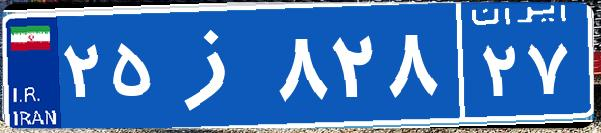2: (330, 28, 385, 110), (57, 26, 110, 107), (475, 38, 525, 113)
5: (110, 28, 158, 105)
7: (525, 38, 570, 115)
8: (385, 28, 445, 110), (273, 28, 330, 110)
ز: (158, 15, 273, 115)
